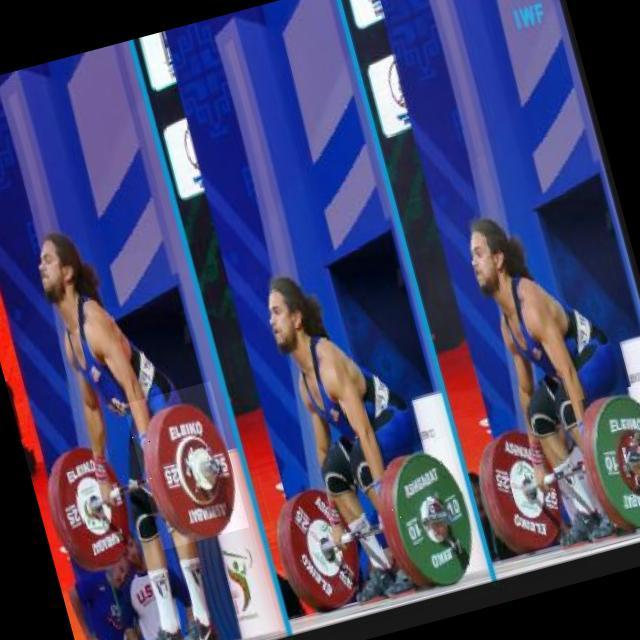barbell: (124, 382, 250, 551), (376, 437, 486, 596), (578, 380, 640, 540)
